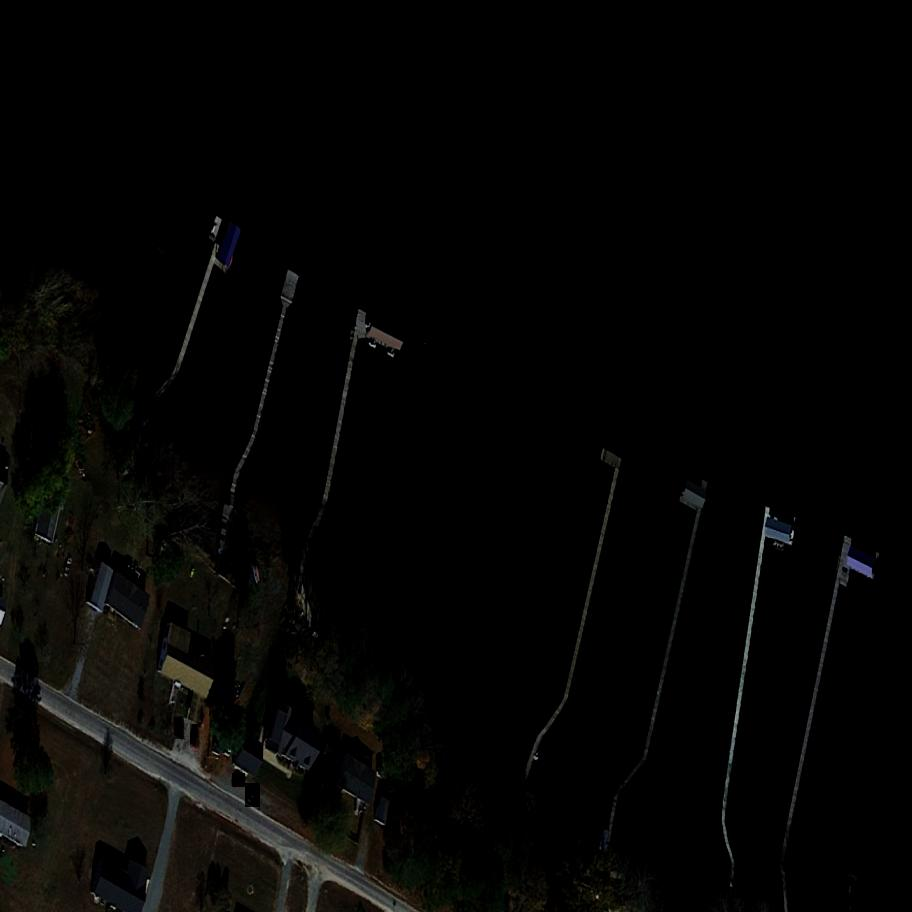small-vehicle: (244, 783, 263, 807), (190, 725, 202, 748), (175, 716, 185, 739), (230, 774, 247, 787)
